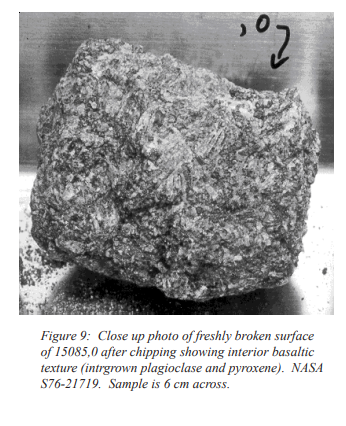Basalt: (21, 13, 327, 311)
